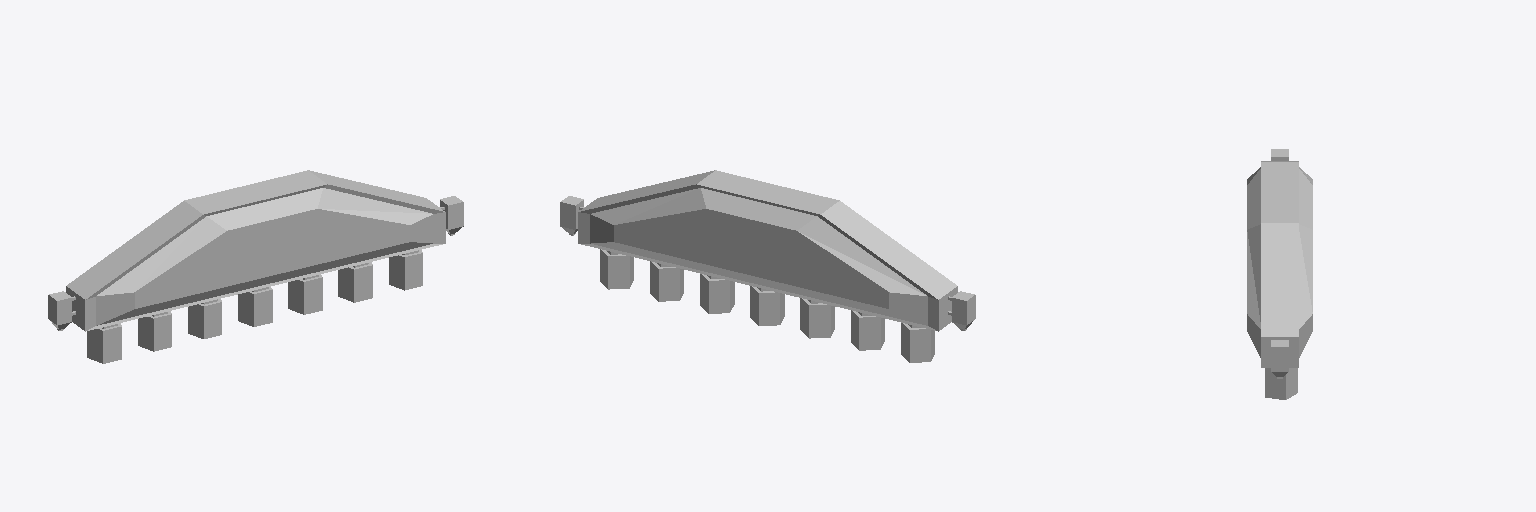
The model's file is boss.obj.
3 views of the same model, side by side, from view 1: azimuth 30°, elevation 25°; view 2: azimuth 150°, elevation 25°; view 3: azimuth 270°, elevation 25° (orthographic).
Visible parts, largest first — view 1: EnemyShip; view 2: EnemyShip; view 3: EnemyShip.
Part boxes in pixels (x1,y1,x2,y2): EnemyShip: (48,170,463,363); EnemyShip: (560,170,975,362); EnemyShip: (1247,149,1312,399).
Bounding box in the file's own units: 24.29 × 7.27 × 3.4.